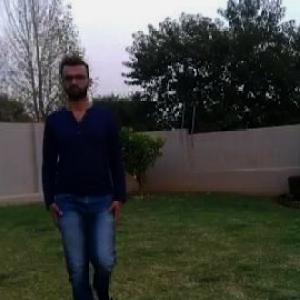follow: (44, 53, 123, 299)
